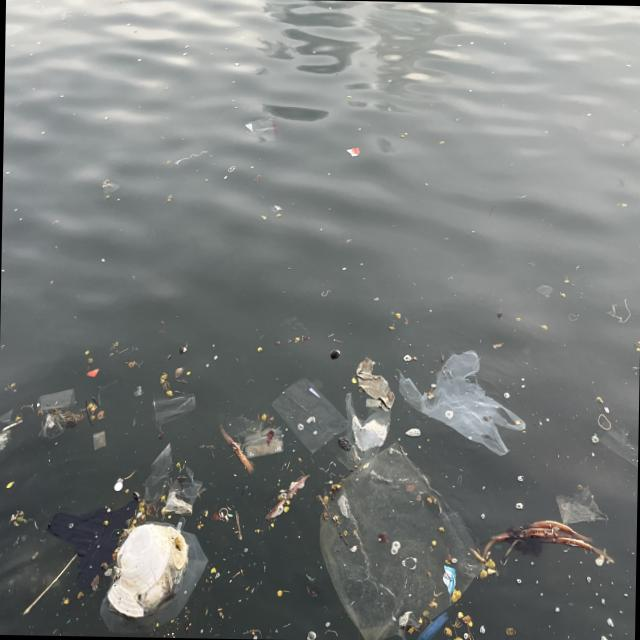foam: (105, 525, 171, 619)
plastic bag: (317, 454, 490, 638), (399, 352, 527, 458), (341, 394, 393, 471)
